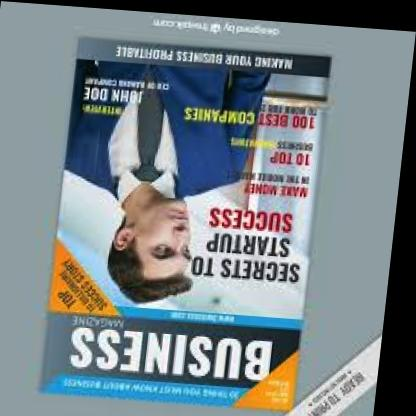Paper: (18, 26, 360, 416)
